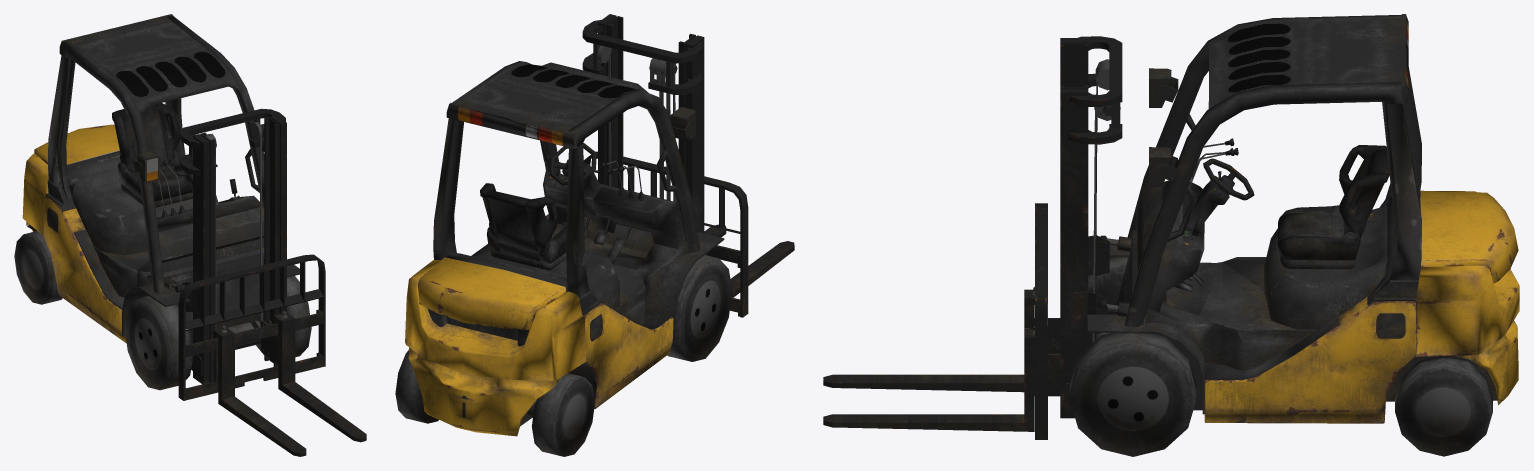
Rendered from forklift_b.gltf.
3 renders of one model, left to right at view 1: azimuth 30°, elevation 25°; view 2: azimuth 150°, elevation 25°; view 3: azimuth 270°, elevation 25°, orthographic. The views are drawn at different scales.
Parts seen in each view (by area): view 1: forklift_b; view 2: forklift_b; view 3: forklift_b.
Part boxes in pixels (x1=…): forklift_b: x1=14, y1=14, x2=366, y2=456; forklift_b: x1=395, y1=14, x2=794, y2=456; forklift_b: x1=823, y1=14, x2=1519, y2=456.
Bounding box in the file's own units: 1.05 × 1.89 × 3.3.
Materials: 1 (1 with a texture image).
